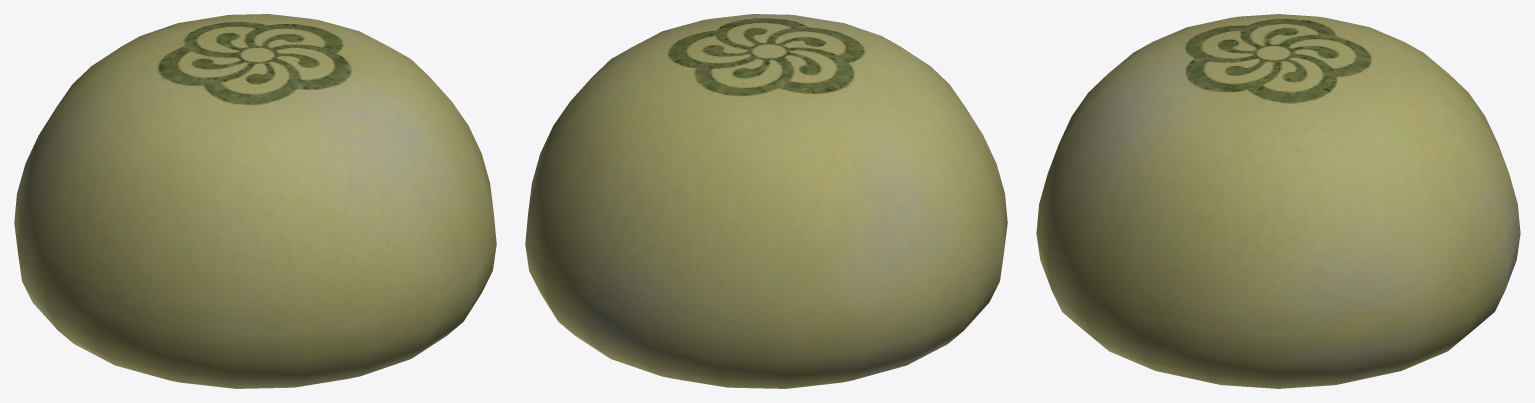
File: bun_D.fbx
The picture shows the model from 3 angles, left to right: view 1: azimuth 30°, elevation 25°; view 2: azimuth 150°, elevation 25°; view 3: azimuth 270°, elevation 25°; orthographic projection.
Visible parts, largest first — view 1: pSphere1; view 2: pSphere1; view 3: pSphere1.
Part boxes in pixels (box(x1,y1,x2,y2)): pSphere1: box(14, 14, 496, 388); pSphere1: box(525, 14, 1007, 388); pSphere1: box(1036, 14, 1520, 388).
Bounding box in the file's own units: 4.03 × 2.47 × 4.03.
1 material, 1 textured.
